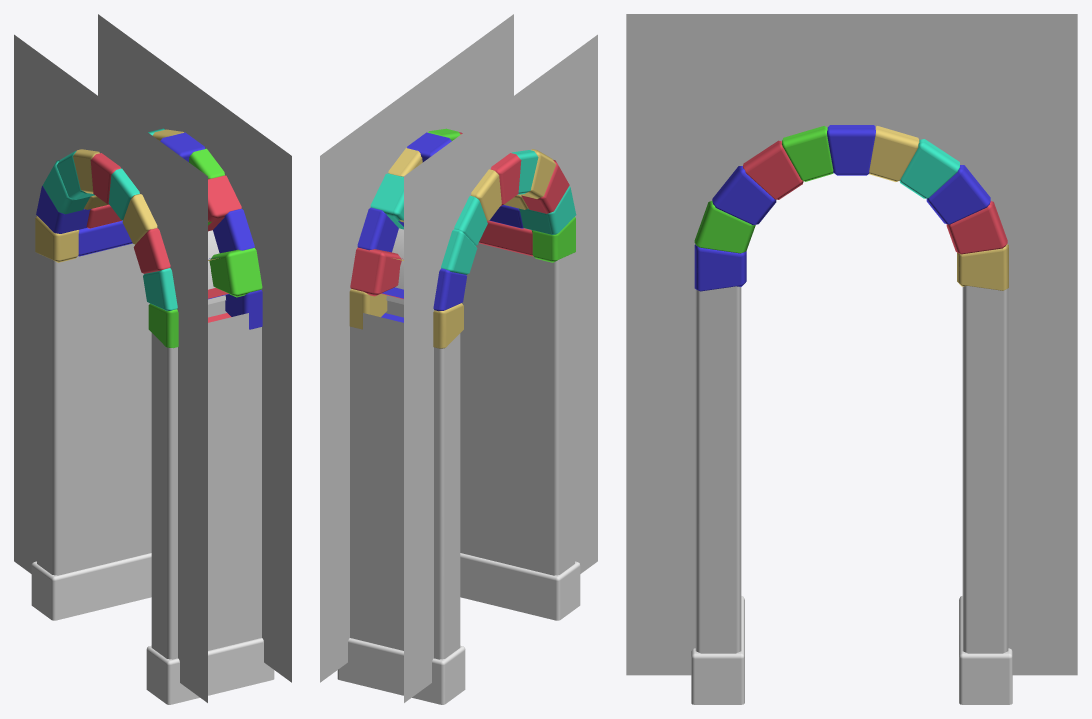
File: archway.fbx
3 renders of one model, left to right at view 1: azimuth 30°, elevation 25°; view 2: azimuth 150°, elevation 25°; view 3: azimuth 270°, elevation 25°, orthographic. The views are drawn at different scales.
Parts seen in each view (by area): view 1: archway; view 2: archway; view 3: archway.
Boxes of the visible parts, box(x1,y1,x2,y2) form: archway: box(14, 14, 291, 704); archway: box(320, 14, 597, 704); archway: box(626, 14, 1077, 704).
Size of the model in its own units: 64.09 by 311 by 200.
